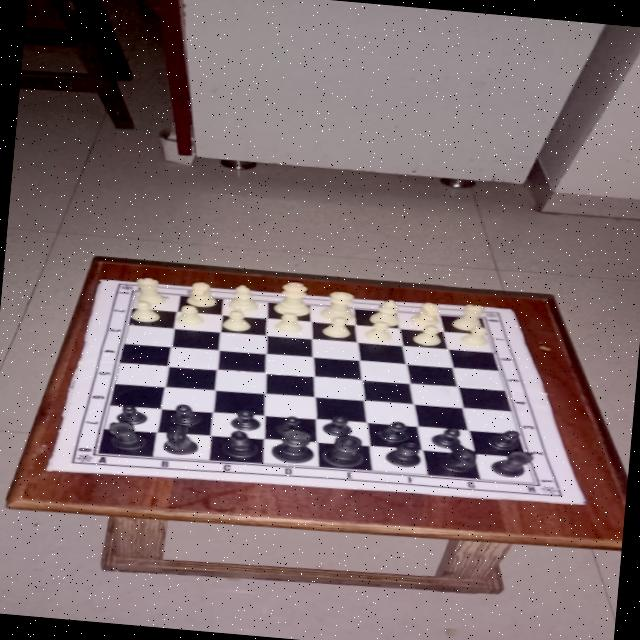corners: (495, 301, 522, 318), (31, 464, 60, 476), (570, 497, 594, 509), (90, 274, 113, 286)
